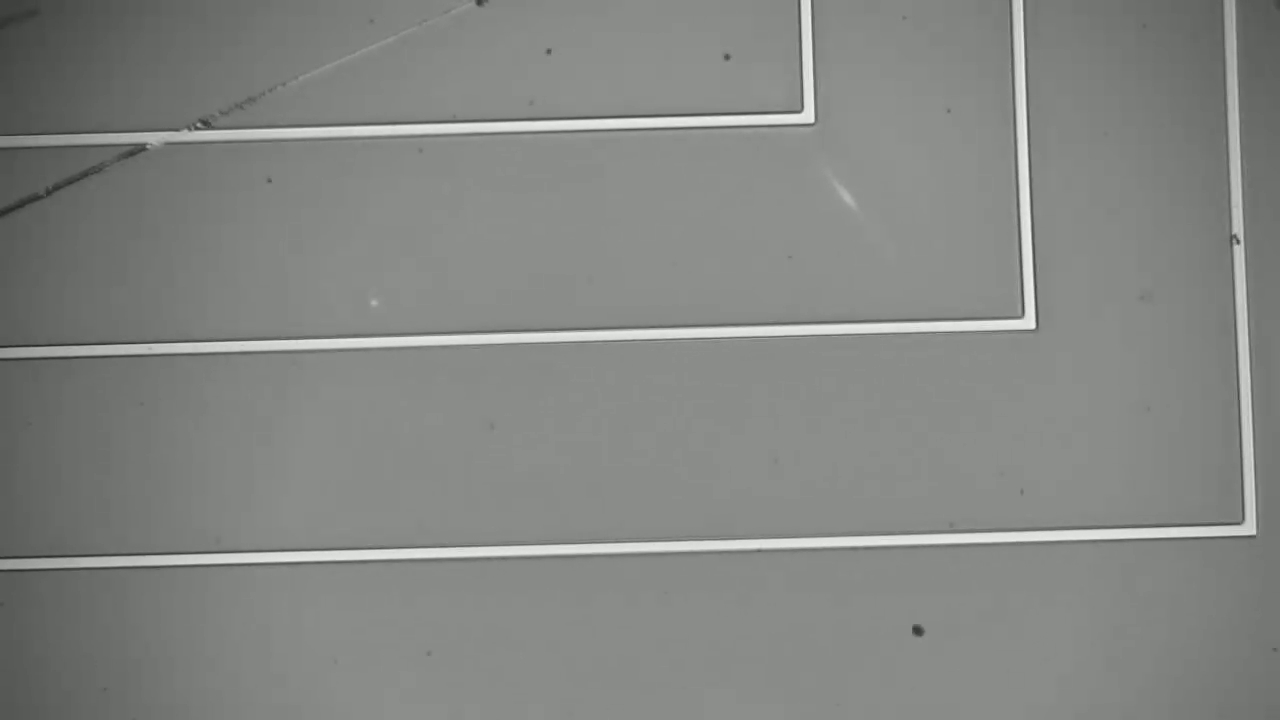scratch: (8, 1, 498, 221)
stains_enbedded: (1221, 226, 1253, 258)
